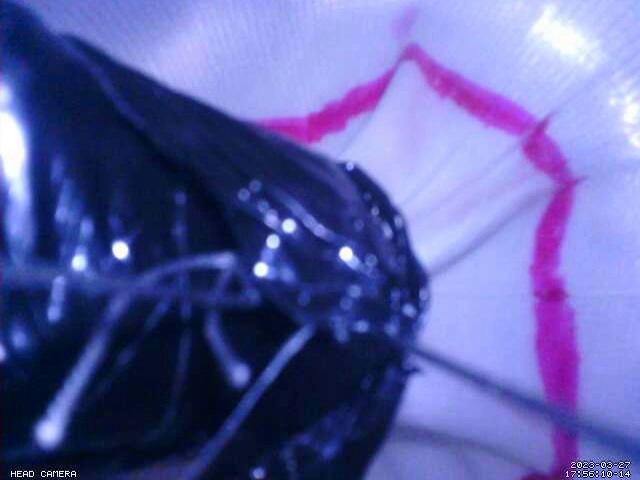red-circle: (252, 41, 581, 480)
